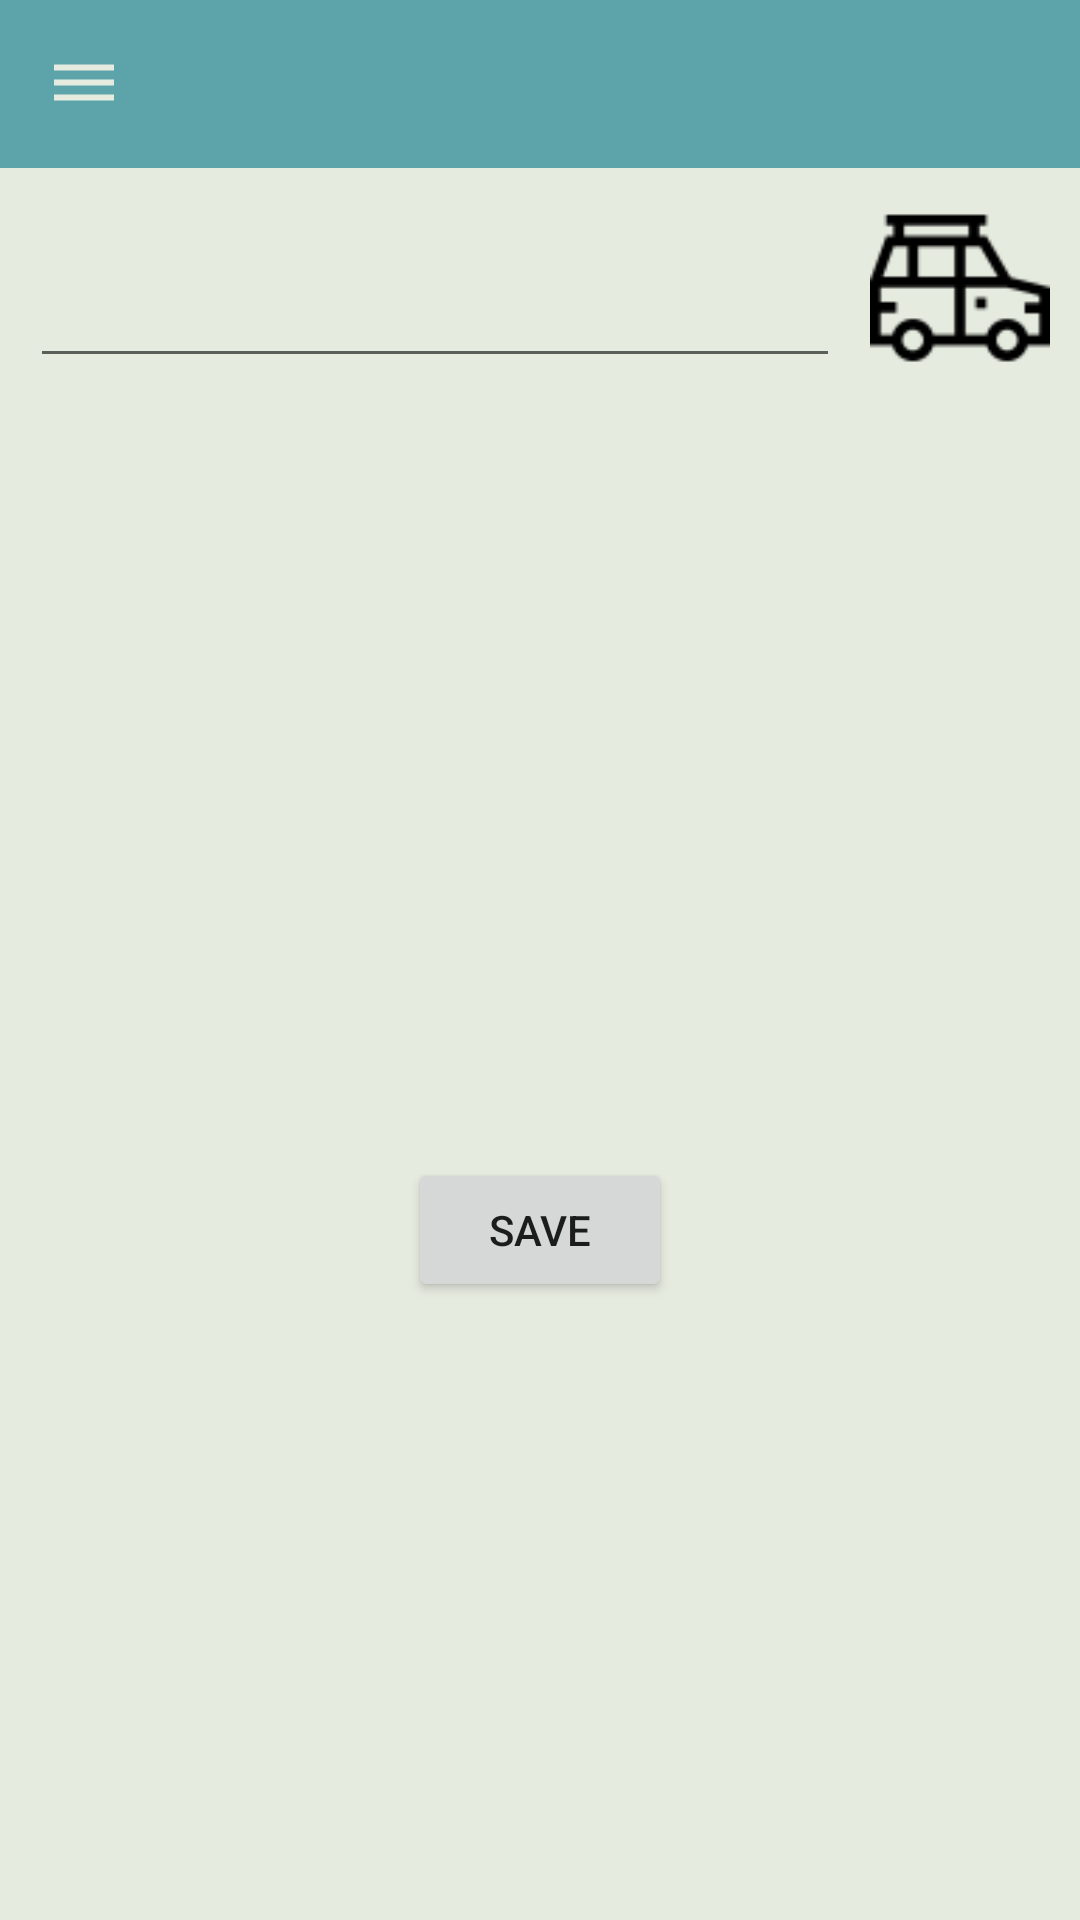

Where icons sit on this 1080 × 1920 app screen, as (x1, y1, x2, y2):
car: (870, 214, 1050, 362)
